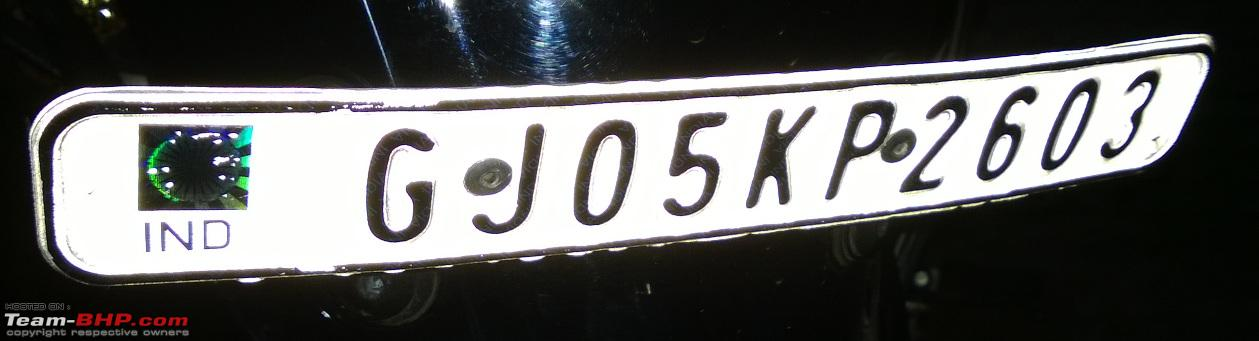number_plate: (24, 34, 1219, 279)
